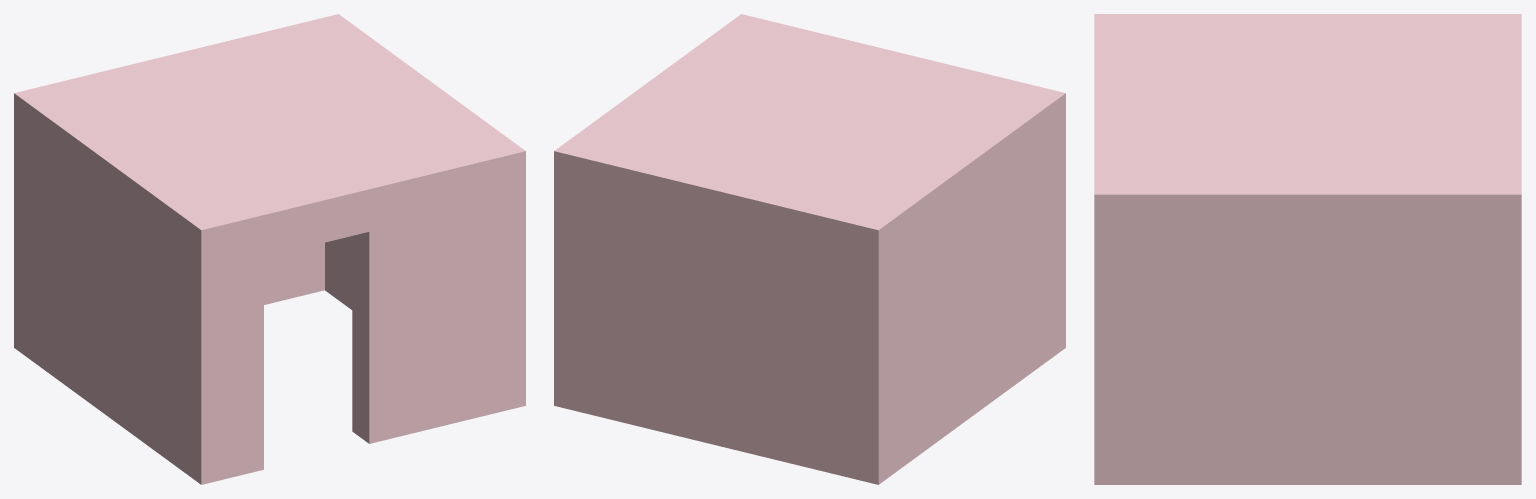
File: house.glb
The picture shows the model from 3 angles, left to right: view 1: azimuth 30°, elevation 25°; view 2: azimuth 150°, elevation 25°; view 3: azimuth 270°, elevation 25°; orthographic projection. The views are drawn at different scales.
Parts seen in each view (by area): view 1: house; view 2: house; view 3: house.
Boxes of the visible parts, <box> form: house: <box>14,14,525,484</box>; house: <box>554,14,1065,484</box>; house: <box>1094,14,1521,484</box>.
Bounding box in the file's own units: 8 × 6 × 8.
1 material, 1 textured.
